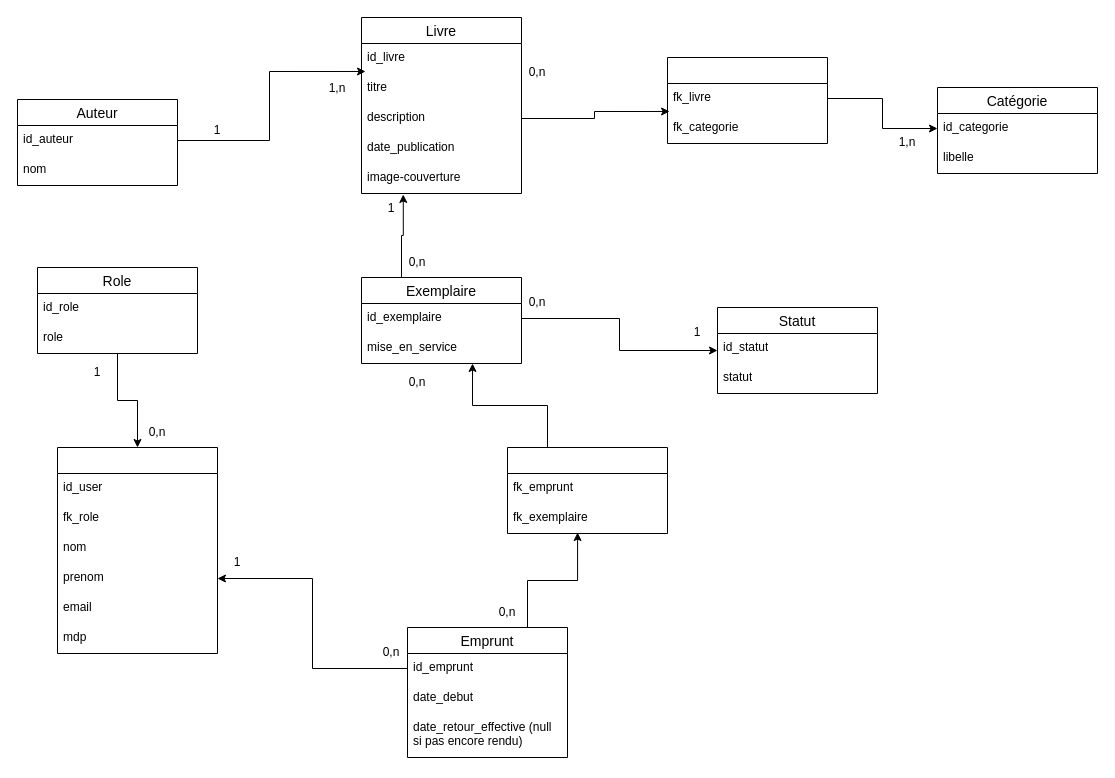
The diagram is 1115 pixels wide and 778 high, and some of its shapes have lost their labels. The shapes that lost their labels are listed below. From the top down, each one's box as (x1, y1, x2, y2) in pixels, then its label:
(666, 56, 828, 144): Livre_Catégorie
(506, 446, 668, 534): Exemplaire_Emprunt
(56, 446, 218, 654): Utilisateur
